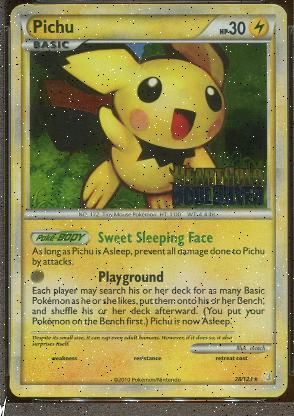Card: (7, 1, 289, 400)
